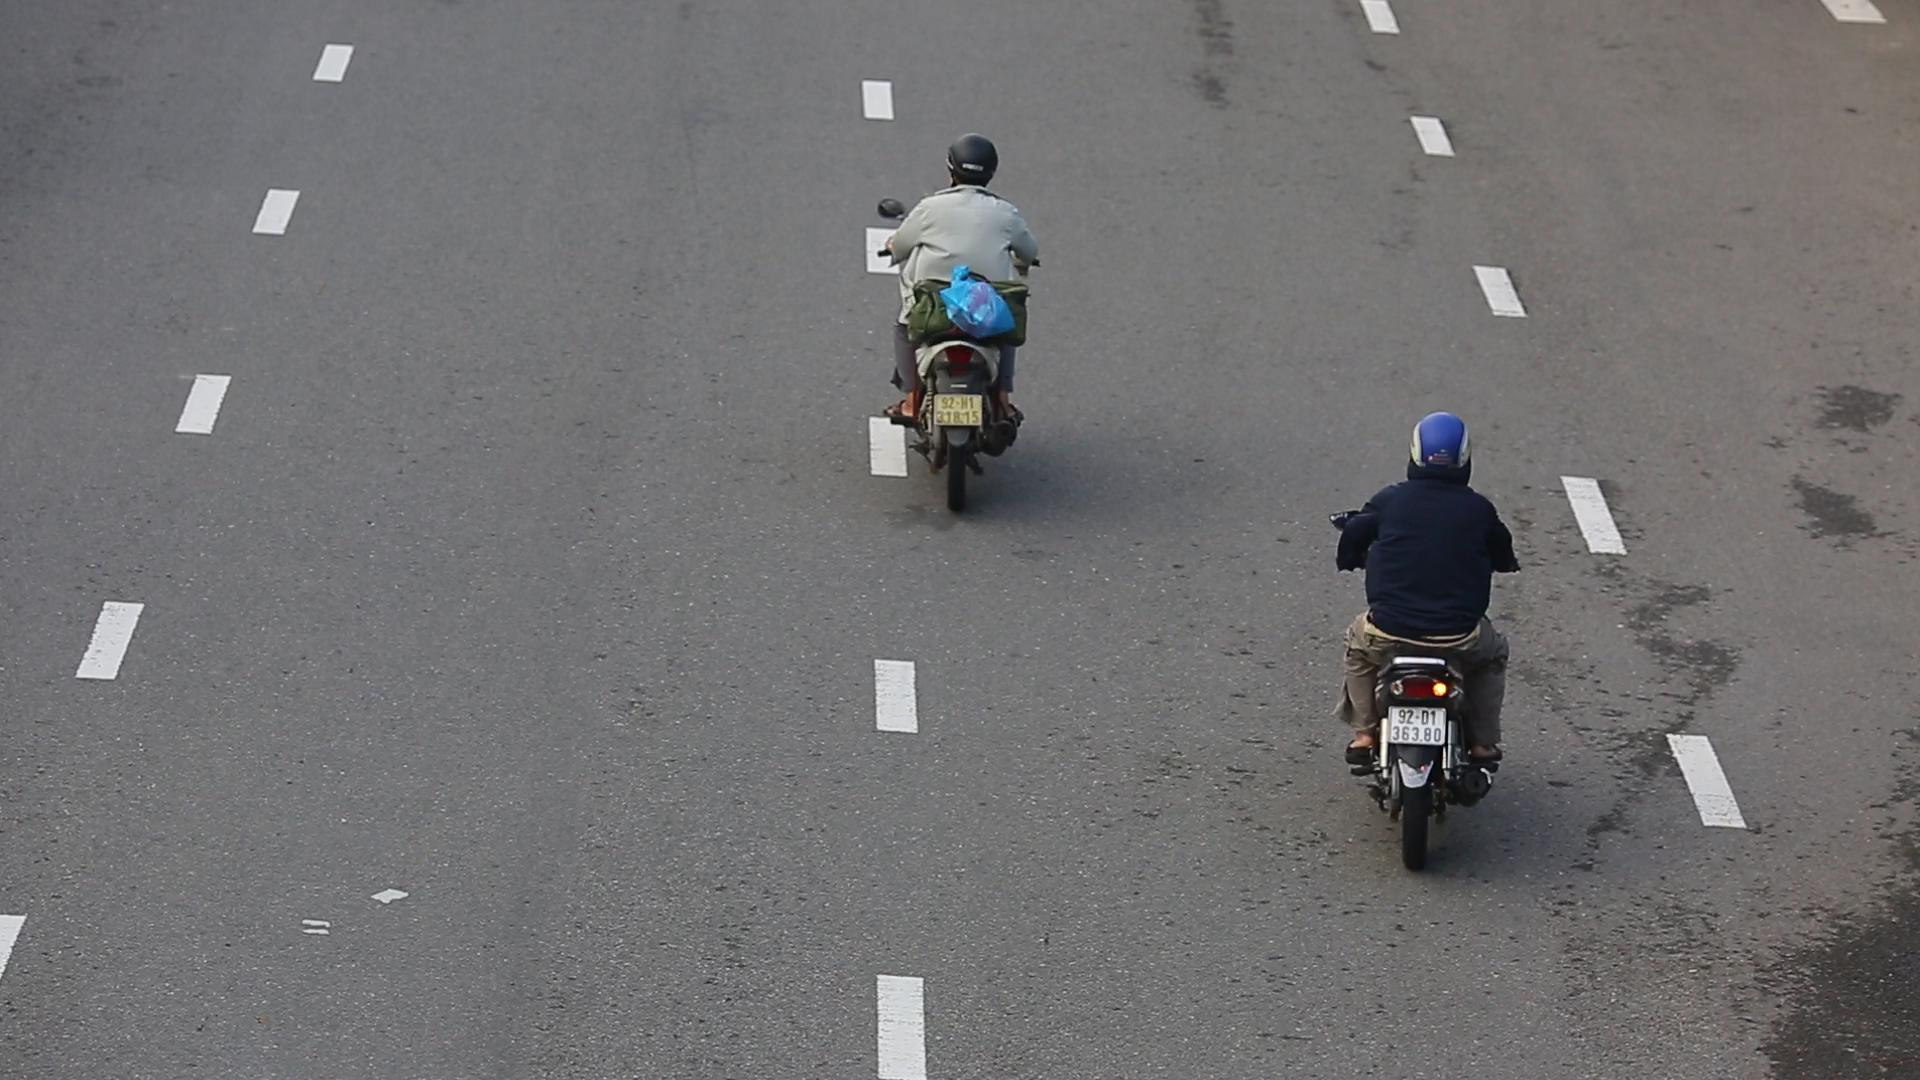motobike: (1331, 402, 1542, 901), (866, 133, 1072, 542)
